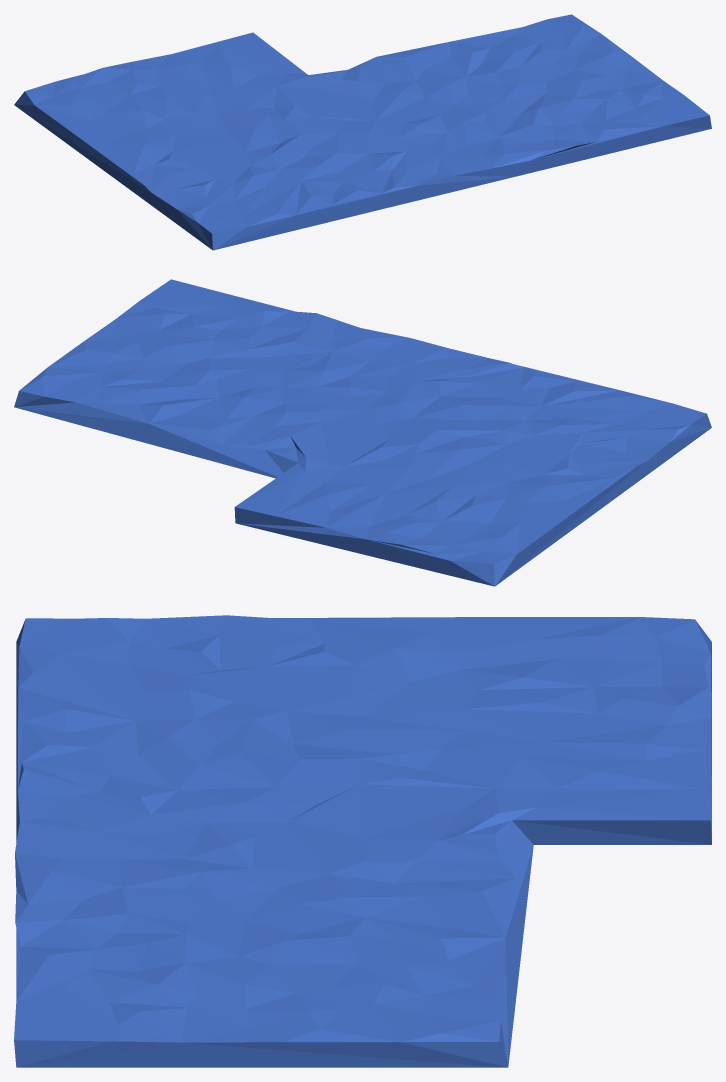
The model's file is level_5_flood_stage1_model.fbx.
3 views of the same model, one above another, from view 1: azimuth 30°, elevation 25°; view 2: azimuth 150°, elevation 25°; view 3: azimuth 270°, elevation 25° (orthographic). The views are drawn at different scales.
Visible parts, largest first — view 1: BezierCurve.000; view 2: BezierCurve.000; view 3: BezierCurve.000.
Part boxes in pixels (box(x1,y1,x2,y2)): BezierCurve.000: box(14, 14, 711, 250); BezierCurve.000: box(14, 279, 711, 586); BezierCurve.000: box(14, 615, 711, 1067).
Size of the model in its own units: 330 by 10.42 by 228.
